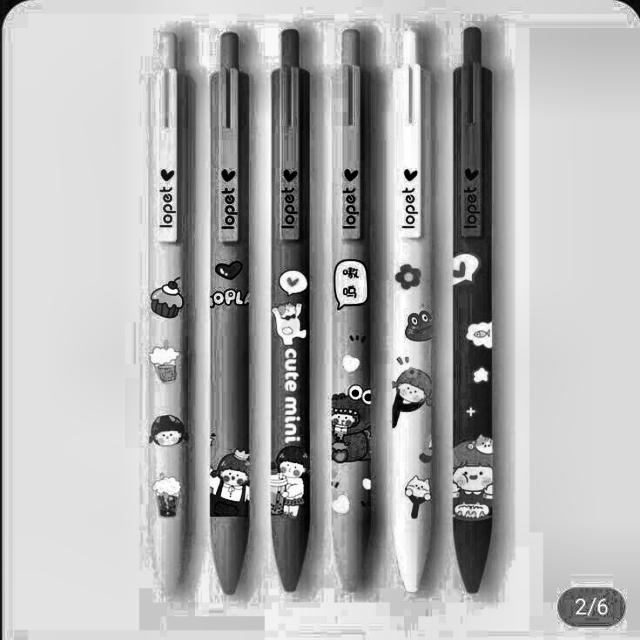Pen: (444, 19, 502, 597), (202, 28, 261, 595), (388, 23, 441, 604), (146, 24, 195, 600), (270, 28, 319, 590), (329, 30, 375, 595)
